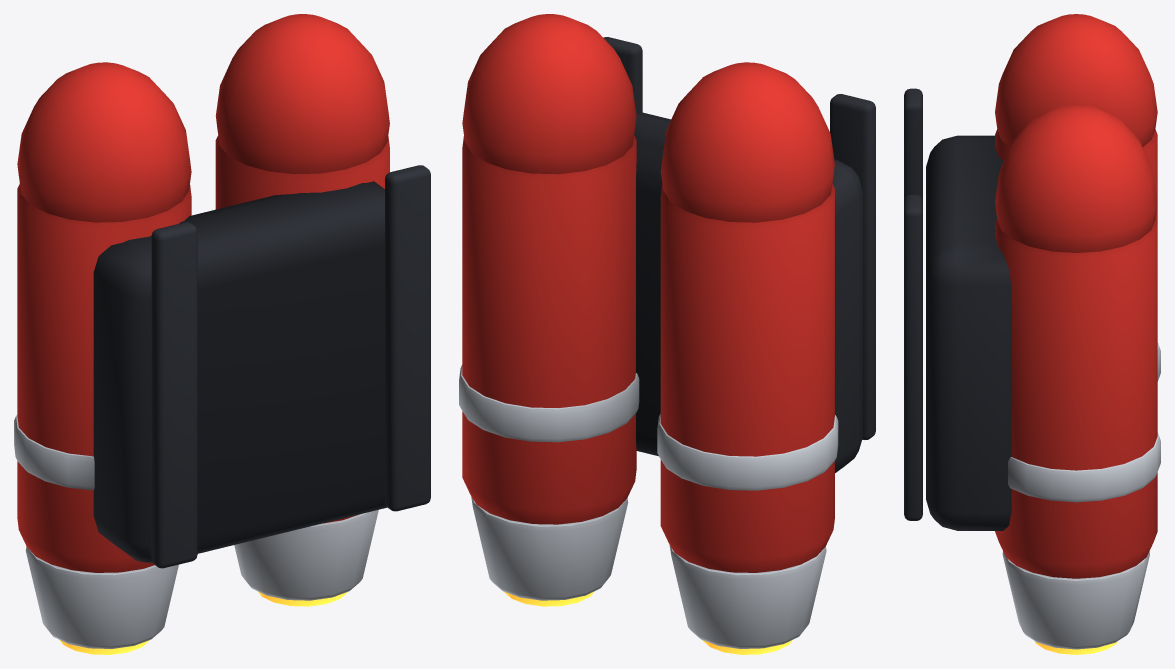
Rendered from bl_rocket.glb.
3 renders of one model, left to right at view 1: azimuth 30°, elevation 25°; view 2: azimuth 150°, elevation 25°; view 3: azimuth 270°, elevation 25°, orthographic. The views are drawn at different scales.
Visible parts, largest first — view 1: rocket_pack; view 2: rocket_pack; view 3: rocket_pack.
Part boxes in pixels (box(x1,y1,x2,y2)): rocket_pack: box(14, 14, 430, 654); rocket_pack: box(459, 14, 875, 654); rocket_pack: box(904, 14, 1160, 654).
Size of the model in its own units: 0.61 by 0.9275 by 0.41.
